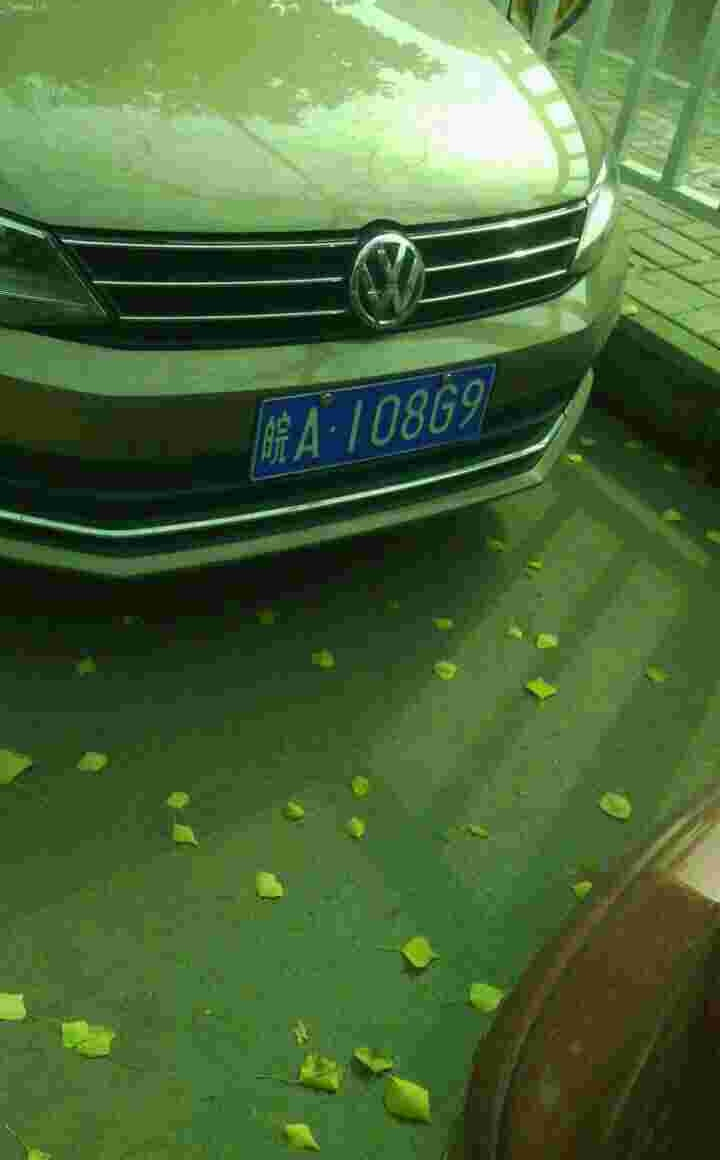license_plate: (253, 369, 489, 484)
